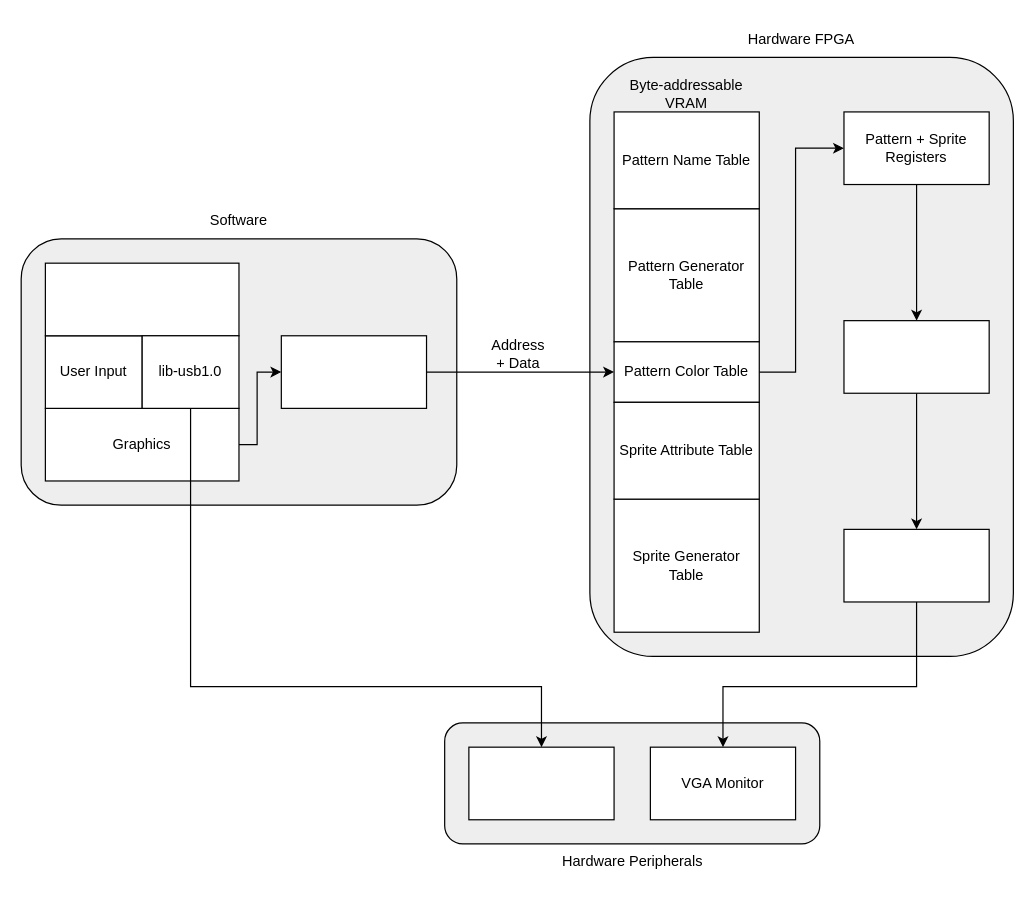
The diagram is 1035 pixels wide and 900 high, and some of its shapes have lost their labels. Each missing label, with the centre of its shape:
(USB) Game Controller: (541,783)
Color-Priority-Multiplexer and Collision Detect: (916,356)
Driver: (353,371)
Game Logic: (141,299)
VGA Logic: (916,565)
